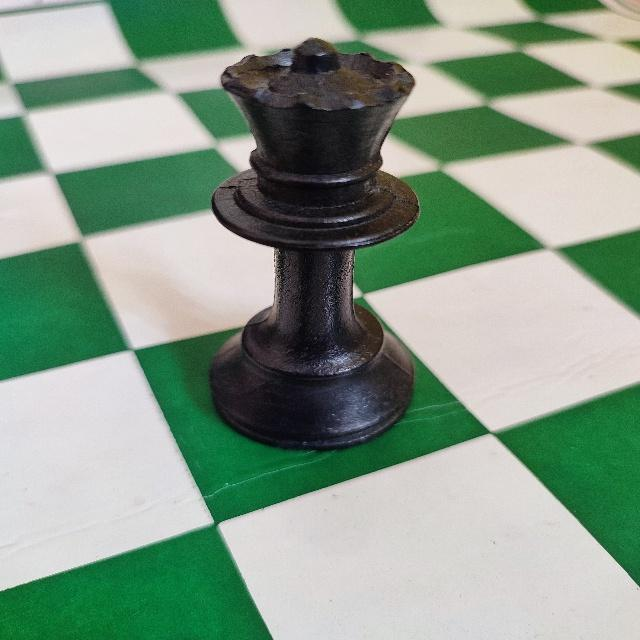Queen: (205, 35, 422, 458)
